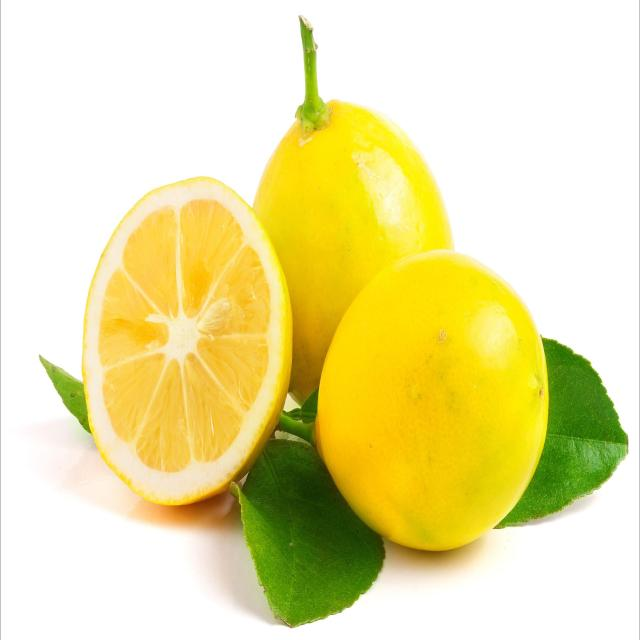lemon: (308, 244, 552, 558), (80, 170, 298, 512)
